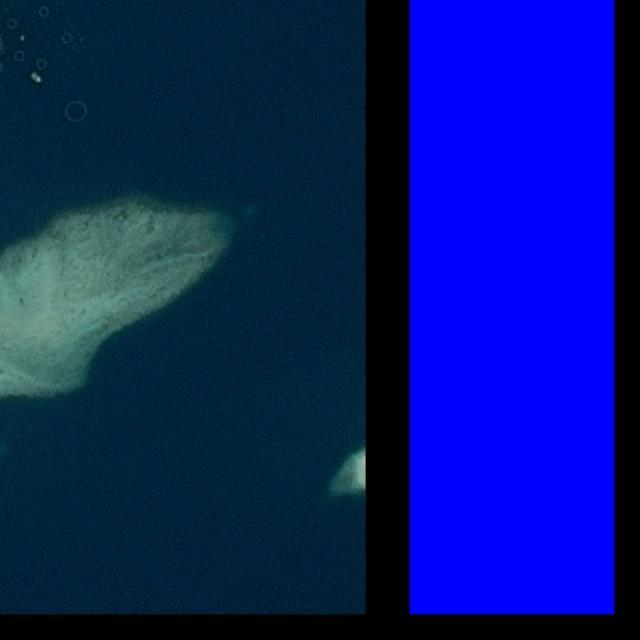ship: (30, 73, 42, 84)
